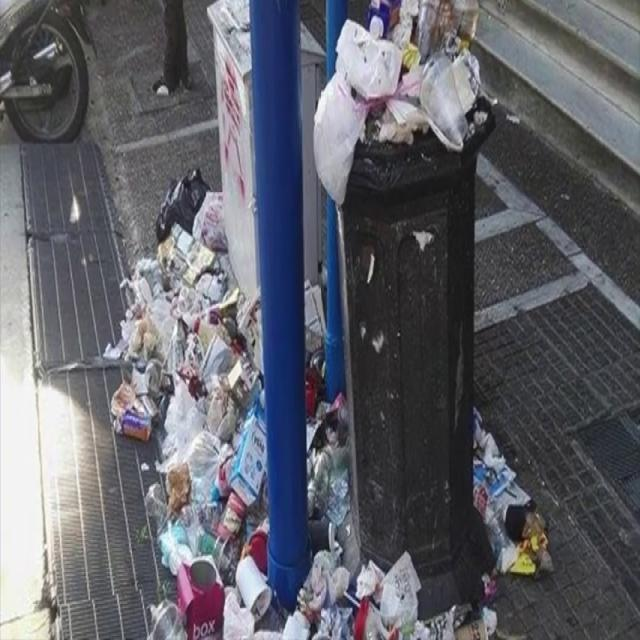garbage: (114, 214, 264, 640), (292, 420, 424, 640), (320, 2, 489, 154), (471, 419, 542, 585)
